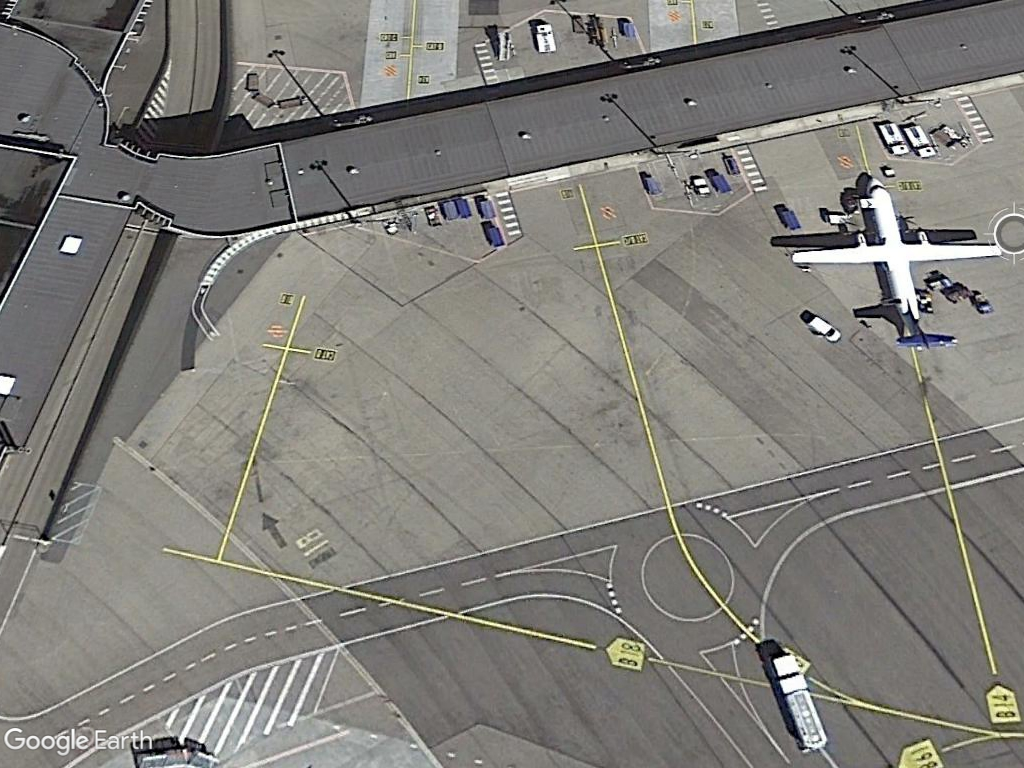propeller: (777, 174, 1005, 349)
